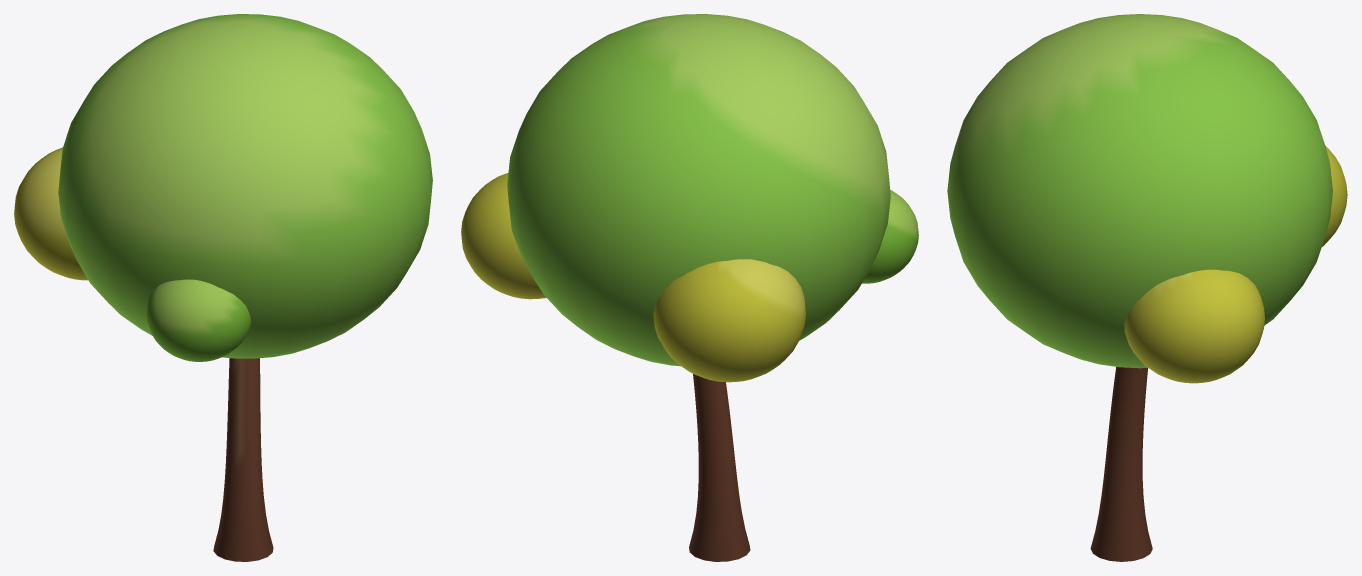
The model's file is lollipop-tree-101.obj.
The picture shows the model from 3 angles, left to right: view 1: azimuth 30°, elevation 25°; view 2: azimuth 150°, elevation 25°; view 3: azimuth 270°, elevation 25°; orthographic projection. The views are drawn at different scales.
Parts seen in each view (by area): view 1: tree; view 2: tree; view 3: tree.
Boxes of the visible parts, x1=… form: tree: x1=14, y1=14, x2=432, y2=561; tree: x1=461, y1=14, x2=918, y2=561; tree: x1=947, y1=14, x2=1347, y2=561.
Bounding box in the file's own units: 361 × 487 × 339.
